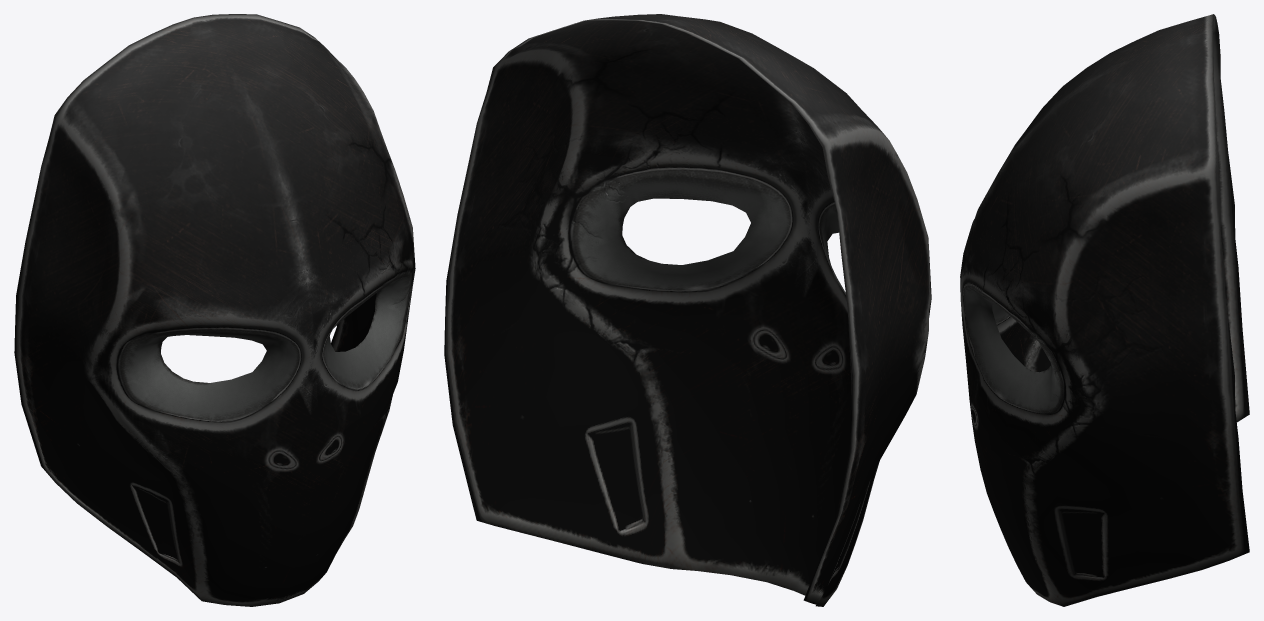
File: face_taktical__mask.glb
The picture shows the model from 3 angles, left to right: view 1: azimuth 30°, elevation 25°; view 2: azimuth 150°, elevation 25°; view 3: azimuth 270°, elevation 25°; orthographic projection. The views are drawn at different scales.
Visible parts, largest first — view 1: Object_2; view 2: Object_2; view 3: Object_2.
Boxes of the visible parts, left/top/right/bottom form: Object_2: left=14, top=14, right=415, bottom=606; Object_2: left=444, top=14, right=931, bottom=606; Object_2: left=960, top=14, right=1249, bottom=606.
Size of the model in its own units: 102 by 152 by 72.72.
1 material, 1 textured.
